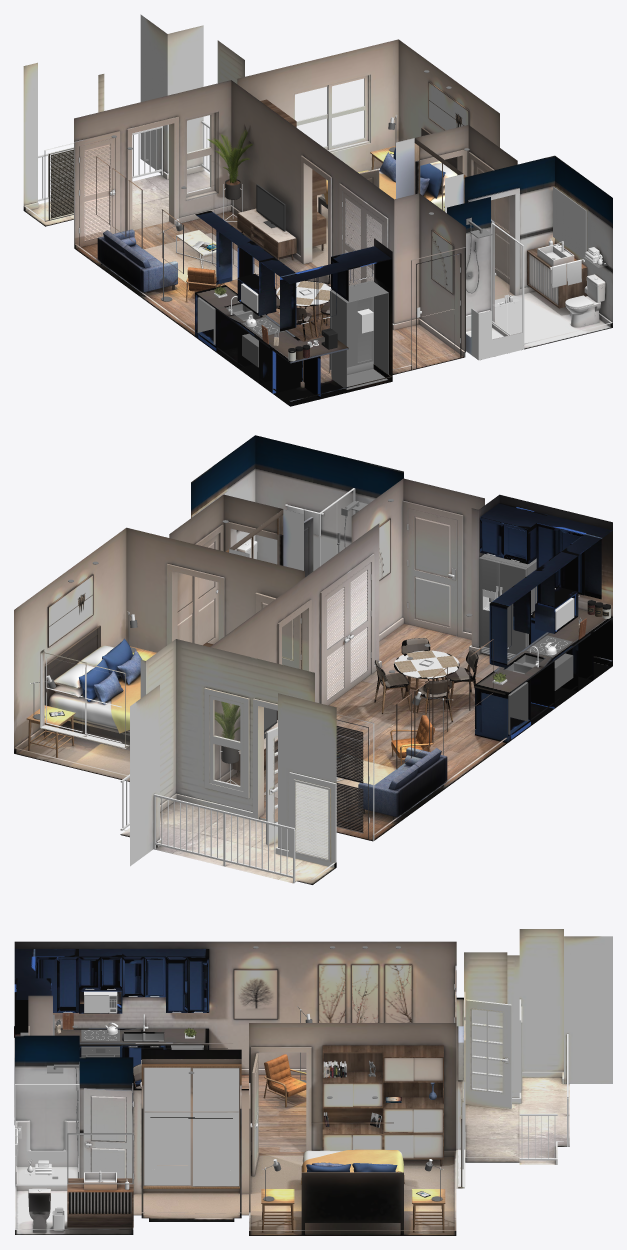
The model's file is One Bedroom Mode3.glb.
The picture shows the model from 3 angles, top to bottom: view 1: azimuth 30°, elevation 25°; view 2: azimuth 150°, elevation 25°; view 3: azimuth 270°, elevation 25°; orthographic projection. The views are drawn at different scales.
Parts seen in each view (by area): view 1: 1_Structure, 2_Door_Windows, 3_Kitchen_Material #129_0, 3_Living Room, 3_Bathroom, 4_Kitchen_Freezer, 3_Bedroom, 4_Bathroom_Box, 3_Picture, 3_Closet, 4_Glass_4_Glass_0.001, 4_BathRoom_Mirror_ (+7 smaller); view 2: 1_Structure, 2_Door_Windows, 3_Kitchen_Material #129_0, 3_Bedroom, 3_Living Room, 3_Picture, 2_Railing, 4_Kitchen_Freezer, 4_Glass, 3_Closet, 4_Bathroom_Box, 4_Kitchen_WashMachine (+1 smaller); view 3: 1_Structure, 3_Bedroom, 2_Door_Windows, 3_Kitchen_Material #129_0, 4_Closet_Mirror, 3_Picture, 3_Bathroom, 4_Bathroom_Box, 3_Closet, 4_Glass_4_Glass_0.003, 3_Living Room, 4_Kitchen_Microwave (+4 smaller).
Part boxes in pixels (x1,y1,x2,y2): 1_Structure: (23,14,612,406); 2_Door_Windows: (24,75,612,401); 3_Kitchen_Material #129_0: (195,211,391,398); 3_Living Room: (97,179,296,302); 3_Bathroom: (466,243,605,360); 4_Kitchen_Freezer: (330,280,388,389); 3_Bedroom: (260,99,457,250); 4_Bathroom_Box: (491,222,524,344); 3_Picture: (96,81,469,294); 3_Closet: (396,138,466,212); 4_Glass_4_Glass_0.001: (332,79,363,144); 4_BathRoom_Mirror_: (553,186,586,260); 1_Structure: (14,435,612,884); 2_Door_Windows: (14,501,612,879); 3_Kitchen_Material #129_0: (393,503,612,743); 3_Bedroom: (26,625,213,757); 3_Living Room: (221,715,447,821); 3_Picture: (47,518,493,769); 2_Railing: (120,774,295,883); 4_Kitchen_Freezer: (479,554,536,659); 4_Glass: (214,700,239,785); 3_Closet: (226,509,303,570); 4_Bathroom_Box: (318,488,355,566); 4_Kitchen_WashMachine: (508,682,528,734); 1_Structure: (14,929,612,1235); 3_Bedroom: (261,1045,445,1234); 2_Door_Windows: (14,965,563,1230); 3_Kitchen_Material #129_0: (14,949,209,1097); 4_Closet_Mirror: (144,1067,238,1185); 3_Picture: (233,964,411,1123); 3_Bathroom: (15,1120,133,1232); 4_Bathroom_Box: (15,1084,79,1185); 3_Closet: (141,1059,241,1191); 4_Glass_4_Glass_0.003: (473,1010,501,1091); 3_Living Room: (263,1054,306,1107); 4_Kitchen_Microwave: (84,991,117,1013).
Bounding box in the file's own units: 7.7 × 3.28 × 12.05.
39 materials, 22 textured.
